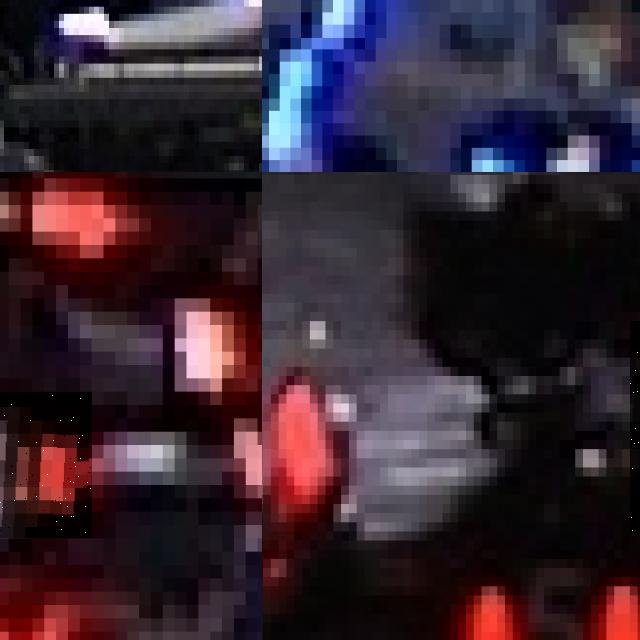B4: (450, 86, 640, 172)
R4: (0, 391, 91, 538)
R5: (411, 554, 640, 640)
